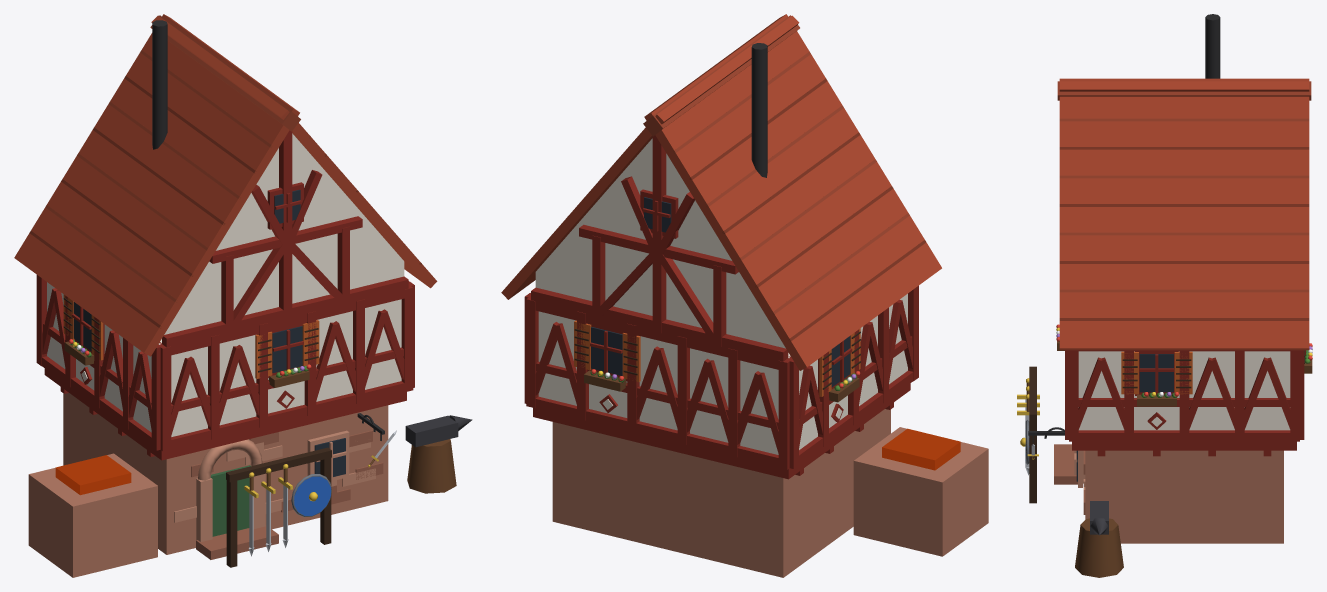
Rendered from waffenschmied.glb.
3 renders of one model, left to right at view 1: azimuth 30°, elevation 25°; view 2: azimuth 150°, elevation 25°; view 3: azimuth 270°, elevation 25°, orthographic. The views are drawn at different scales.
Size of the model in its own units: 4.78 by 5.26 by 3.13.
